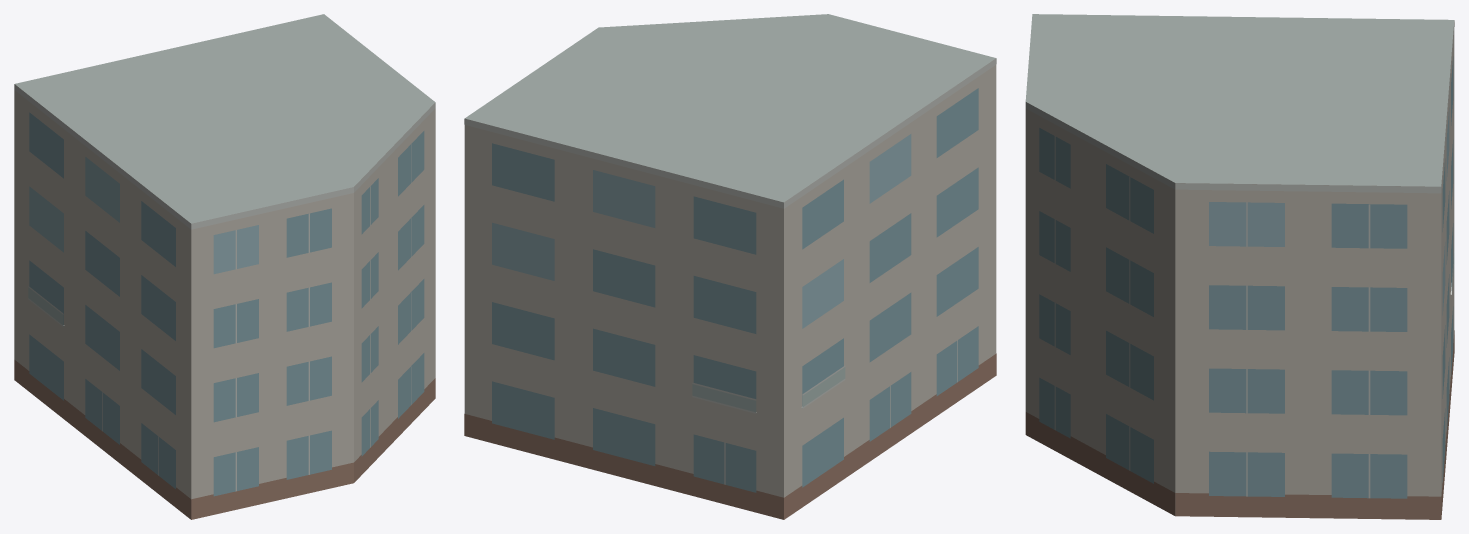
File: residential-0a85255e-5183-47b9-938d-2218d4307e92.glb
The picture shows the model from 3 angles, left to right: view 1: azimuth 30°, elevation 25°; view 2: azimuth 150°, elevation 25°; view 3: azimuth 270°, elevation 25°; orthographic projection. The views are drawn at different scales.
Visible parts, largest first — view 1: residential-0a85255e-5183-47b9-938d-2218d4307e92.tmp; view 2: residential-0a85255e-5183-47b9-938d-2218d4307e92.tmp; view 3: residential-0a85255e-5183-47b9-938d-2218d4307e92.tmp.
Boxes of the visible parts, x1,y1,x2,y2 form: residential-0a85255e-5183-47b9-938d-2218d4307e92.tmp: (14,14,435,519); residential-0a85255e-5183-47b9-938d-2218d4307e92.tmp: (464,14,996,519); residential-0a85255e-5183-47b9-938d-2218d4307e92.tmp: (1025,14,1454,519).
Size of the model in its own units: 13.57 by 12.2 by 14.24.
